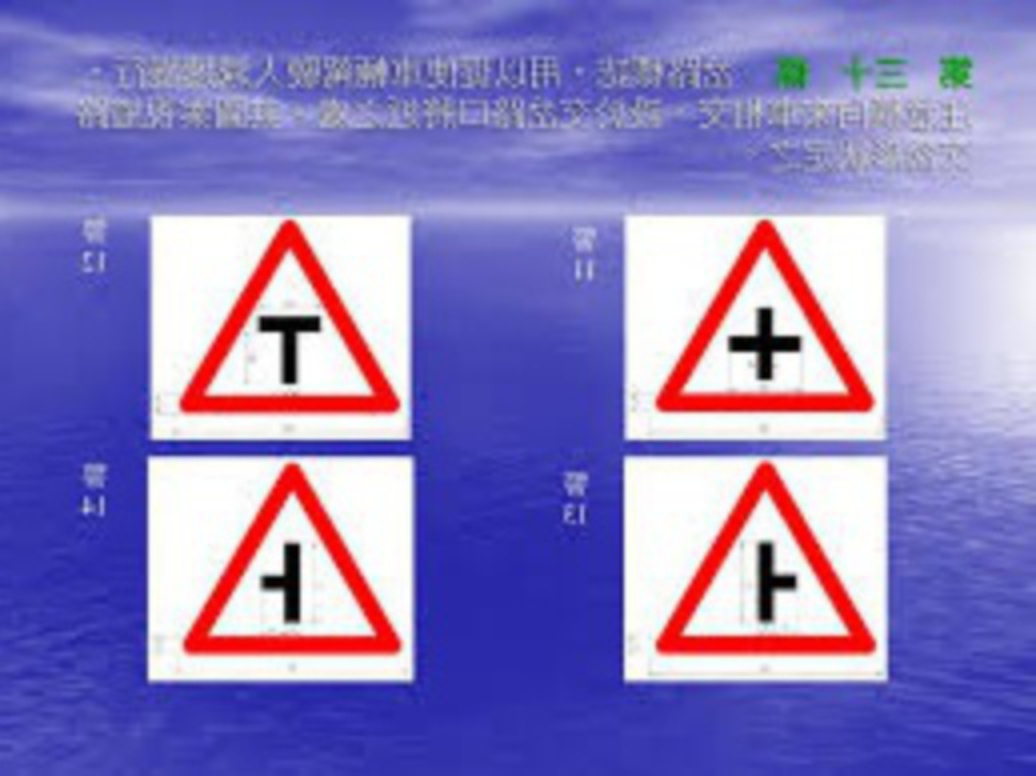Fork_road: (160, 462, 413, 665), (653, 213, 886, 422), (171, 216, 405, 420), (649, 458, 884, 659)
